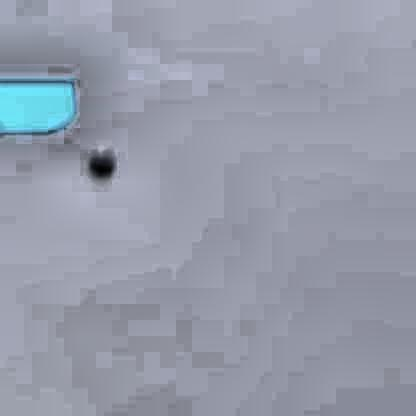golfball: (86, 143, 111, 173)
